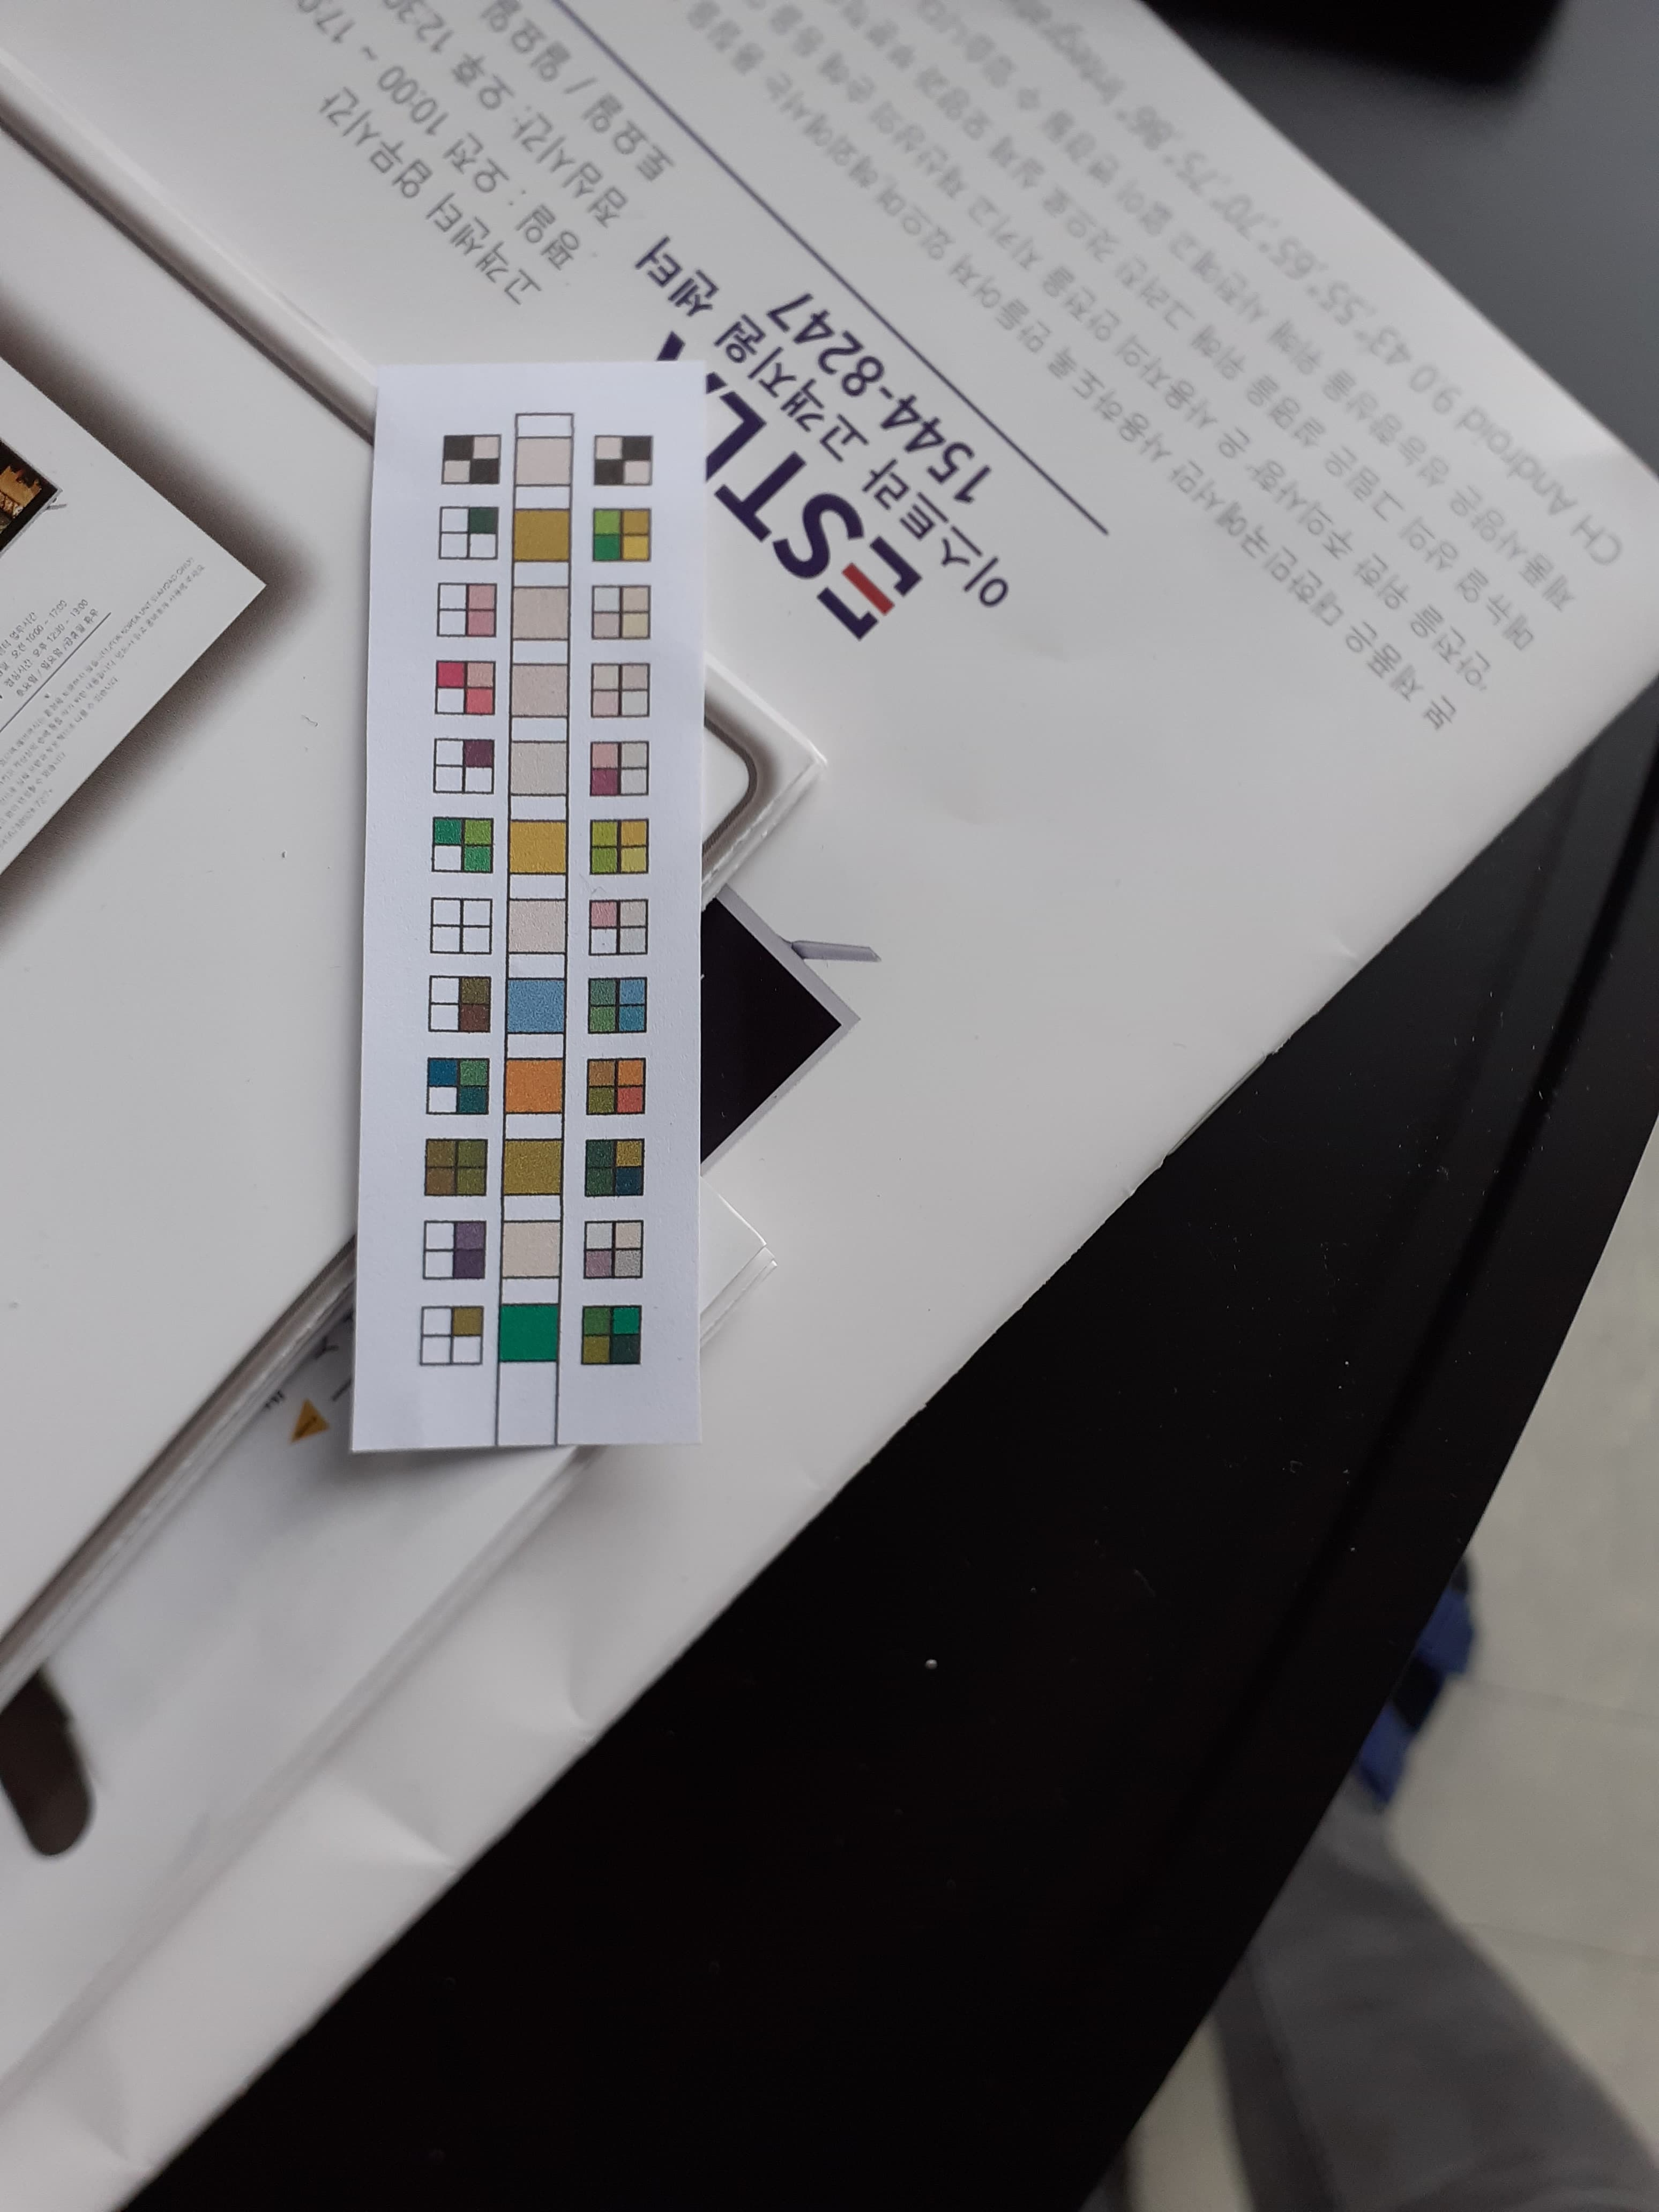tester: (371, 354, 702, 1453)
